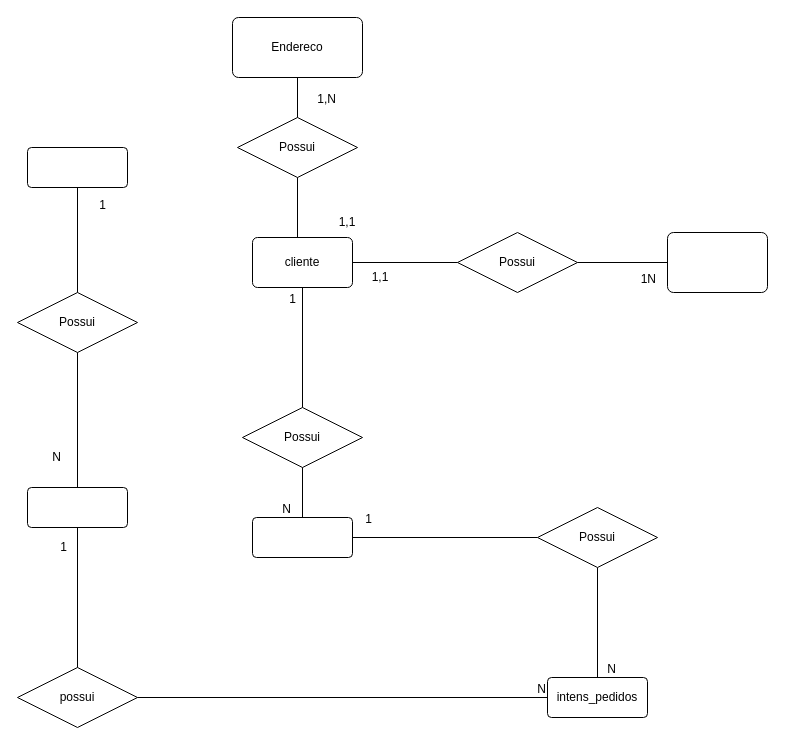
The diagram is 785 pixels wide and 745 high, and some of its shapes have lost their labels. The shapes that lost their labels are listed below. From the top down, each one's centre as x and y in pixels, then its label:
point (77, 167): categoria
point (717, 262): telefone
point (77, 507): Produto
point (302, 537): pedidos
